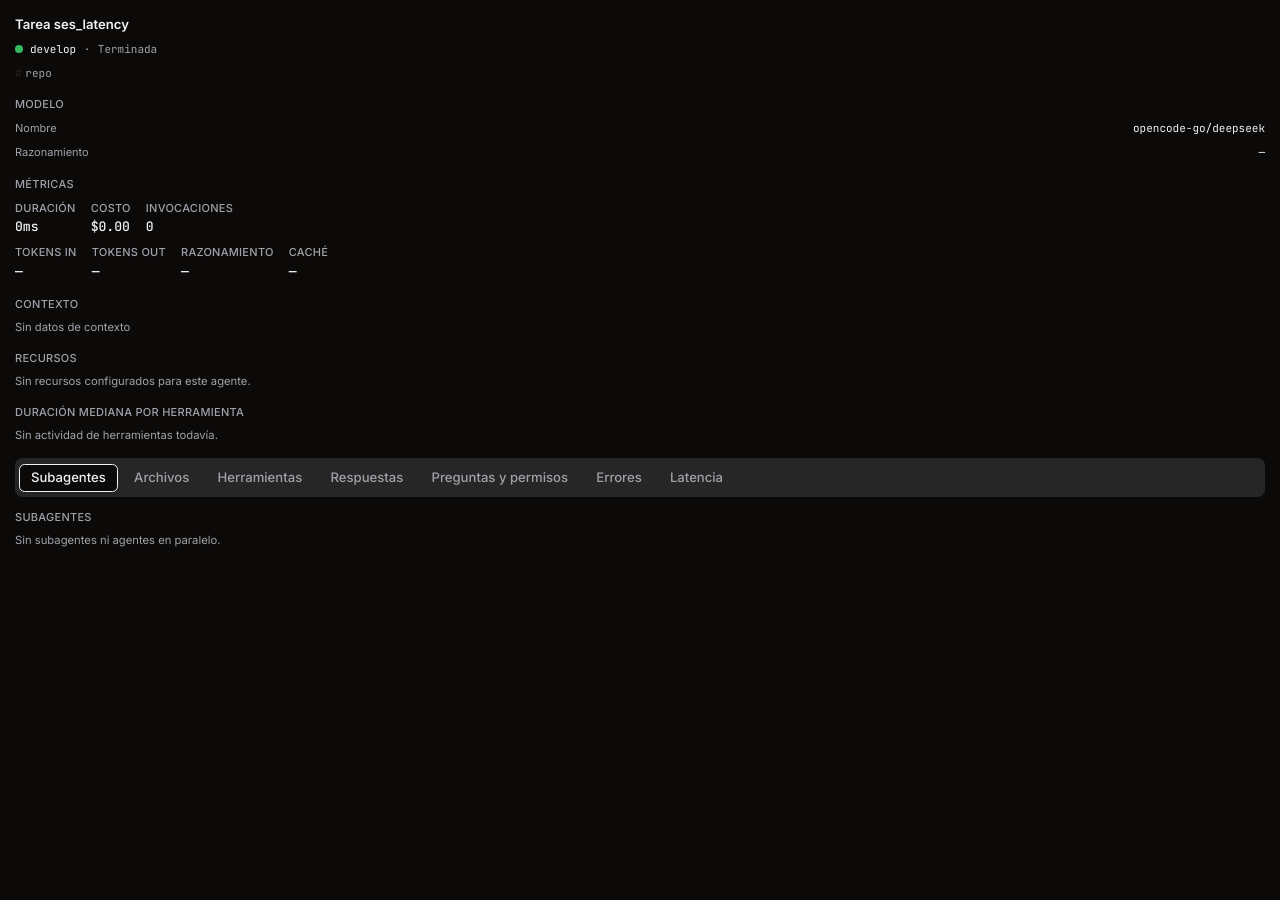
Test: InspectorPanel — cadena contexto/latencia → pestaña Latencia (§5, FR-009) › muestra la sección completa: reparto, ritmo del modelo, umbral y respuestas lentas
Click the tab "Latencia" at [696, 478], box [658,464,735,492]
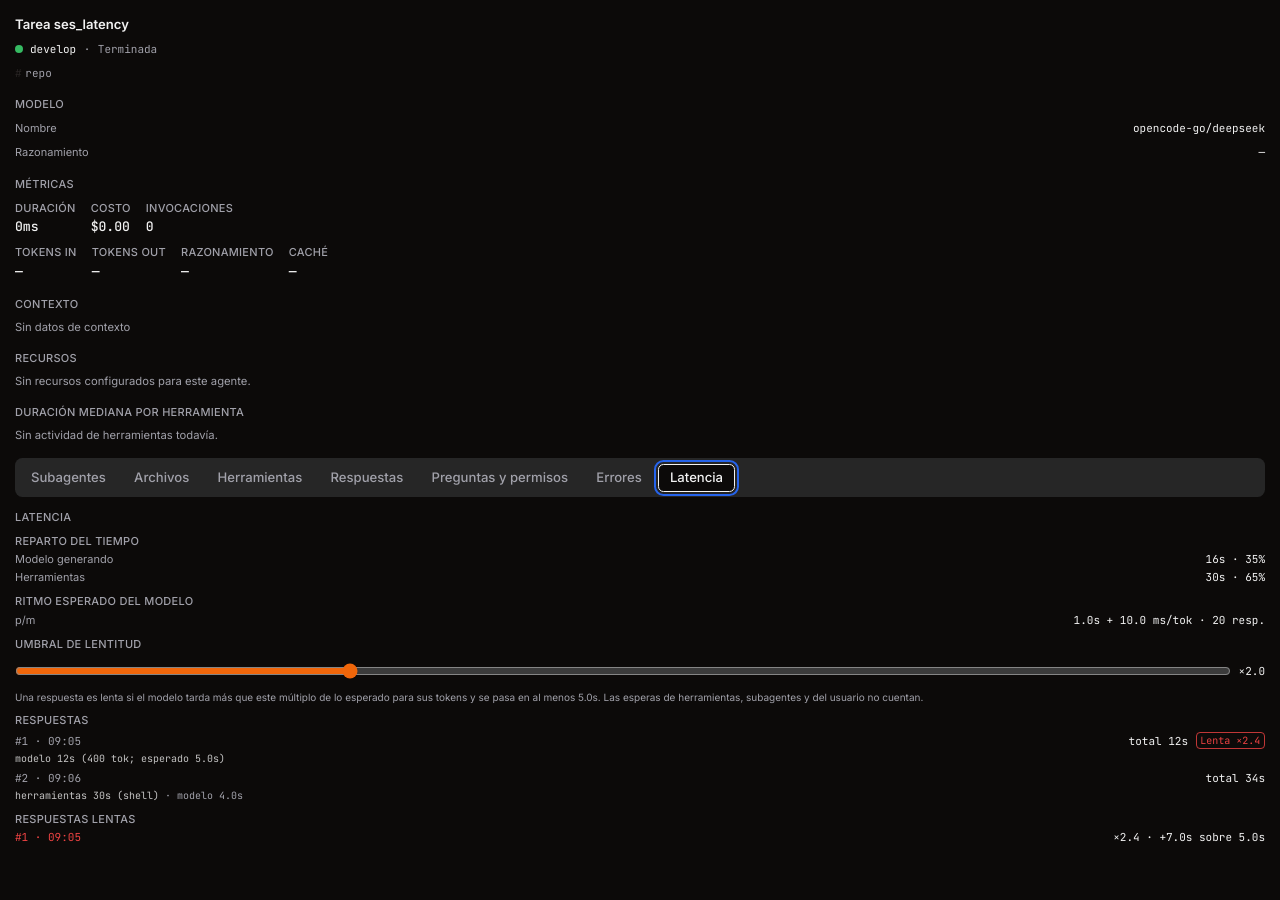
Expected: the text "Reparto del tiempo" is shown, [15,534,139,548]
Expected: the text "16s · 35%" is shown, [1206,551,1265,567]
Expected: the text "30s · 65%" is shown, [1206,569,1265,586]
